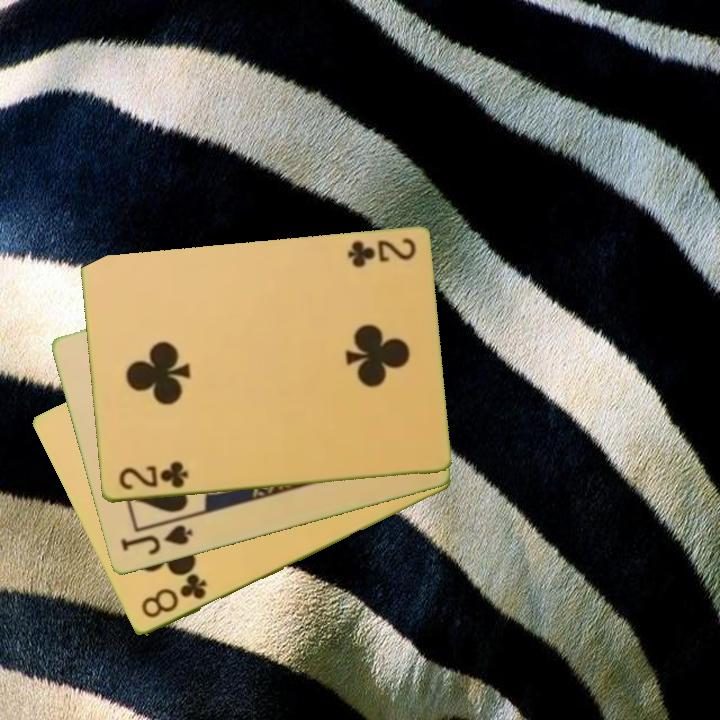2c: (115, 459, 191, 494), (344, 235, 419, 270)
8c: (137, 571, 210, 622)
Js: (117, 522, 196, 559)
